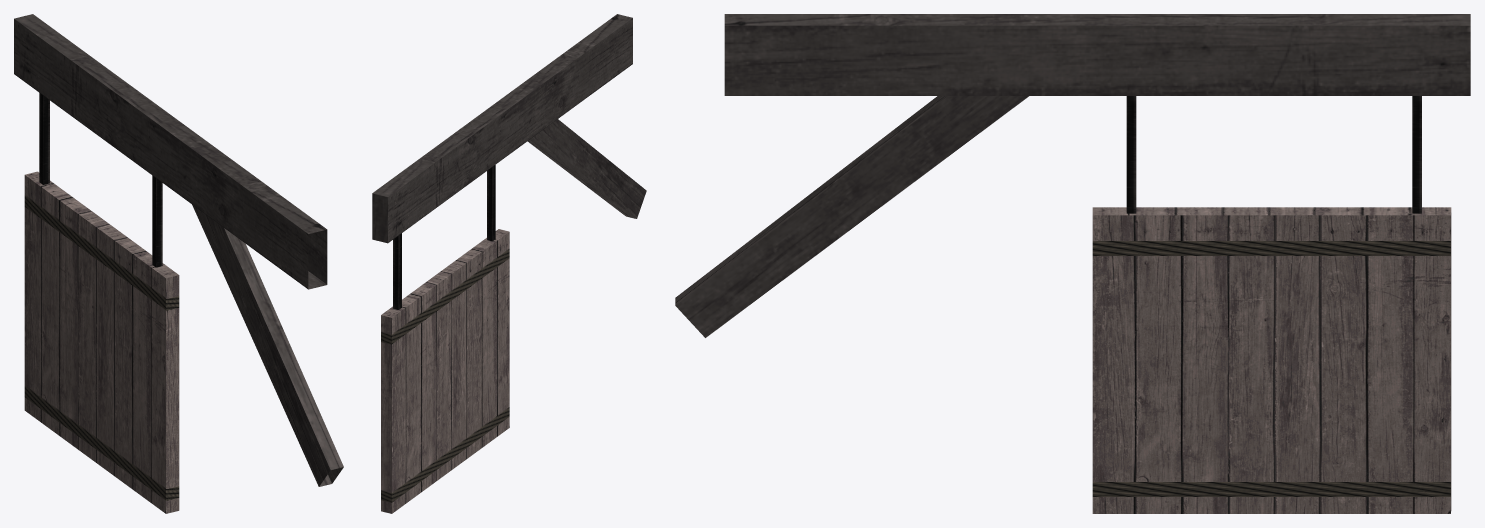
Rendered from poorfolks_tavern_sign.obj.
3 views of the same model, side by side, from view 1: azimuth 30°, elevation 25°; view 2: azimuth 150°, elevation 25°; view 3: azimuth 270°, elevation 25° (orthographic). The views are drawn at different scales.
Visible parts, largest first — view 1: poorfolks_tavern_sign; view 2: poorfolks_tavern_sign; view 3: poorfolks_tavern_sign.
Boxes of the visible parts, x1,y1,x2,y2 form: poorfolks_tavern_sign: [14, 14, 343, 513]; poorfolks_tavern_sign: [372, 14, 646, 513]; poorfolks_tavern_sign: [675, 14, 1470, 513].
Bounding box in the file's own units: 5.74 × 112 × 164.
